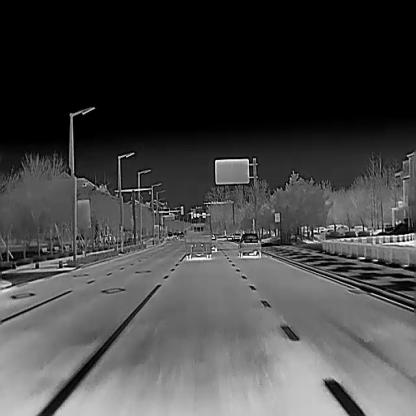car: (238, 232, 262, 257), (328, 224, 350, 233), (349, 224, 368, 232), (311, 226, 327, 233), (177, 234, 184, 240)
truck: (184, 222, 212, 260)
